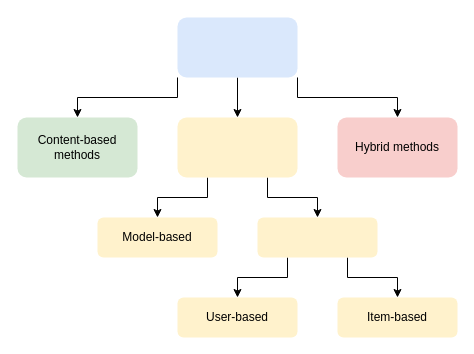
The diagram is 474 pixels wide and 354 high, and some of its shapes have lost their labels. Each missing label, with the centre of its shape:
Collaborative filtering methods: pixel 237 147
Memory-based: pixel 317 237
Recommender systems: pixel 237 47
